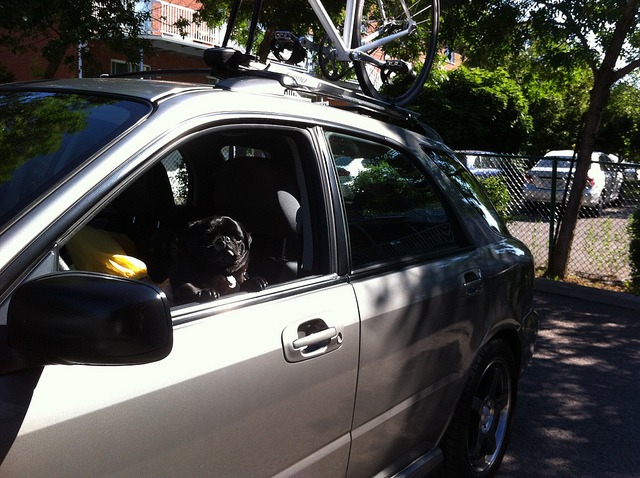Car: (1, 57, 547, 477)
